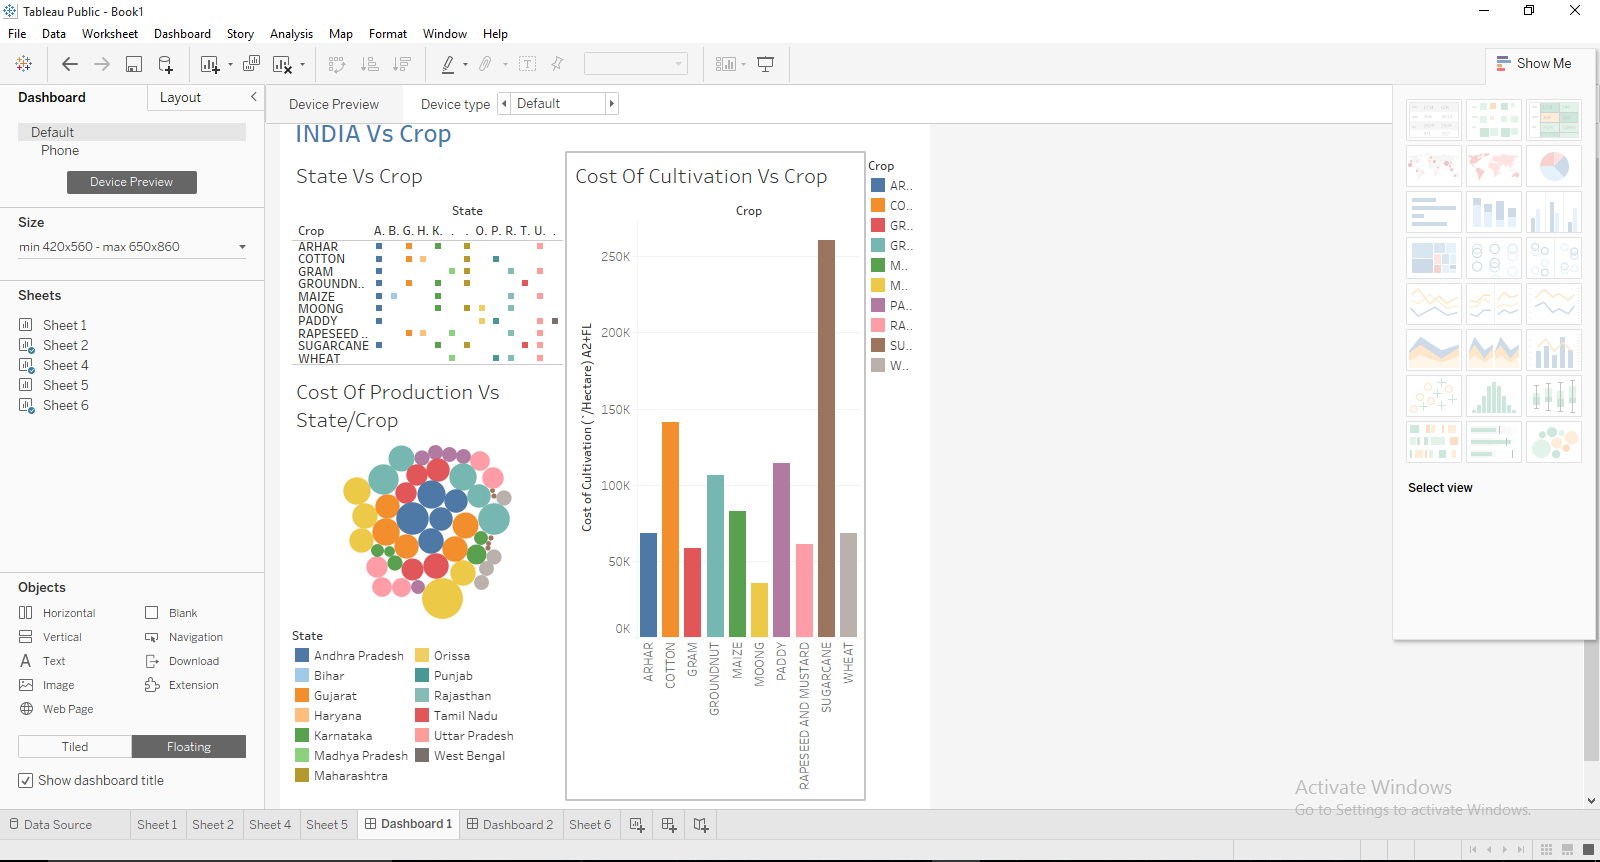

The page's visual inventory and layout, read from the dashboard file:
{"tool":"tableau","page":{"name":"Dashboard 1","canvas":[650,860],"ordinal":0},"visuals":[{"type":"worksheet","box":[0,0,650,860]},{"type":"worksheet","param":"vert","box":[8,8.4,634,843.2]},{"type":"worksheet","box":[8,8.4,634,60.9]},{"type":"worksheet","param":"horz","box":[8,69.3,634,782.3]},{"type":"worksheet","box":[8,69.3,474,782.3]},{"type":"worksheet","title":"Sheet 1","mark":"Automatic","box":[8,69.3,237,391.1]},{"type":"worksheet","title":"Sheet 3","mark":"Circle","rows":["period","gold data ,master.csv_7056D3D10AB9405282495757266570CC"],"cols":["Country Name"],"box":[245,69.3,237,391.1]},{"type":"worksheet","param":"vert","box":[482,69.3,160,782.3]},{"type":"worksheet","title":"Sheet 1","mark":"Automatic","param":"[federated.013u0bw1vhrlku14ba7o214q8bwv].[sum:tonnes:qk]","box":[482,69.3,160,167]},{"type":"worksheet","title":"Sheet 1","mark":"Automatic","param":"[federated.013u0bw1vhrlku14ba7o214q8bwv].[none:Country Name:nk]","box":[482,236.3,160,307.7]},{"type":"worksheet","title":"Sheet 2","mark":"Automatic","rows":["period","tonnes"],"cols":["Country Name"],"box":[8,460.5,237,391.1]},{"type":"worksheet","title":"Sheet 4","mark":"Pie","rows":["gold data ,master.csv_7056D3D10AB9405282495757266570CC","tonnes"],"cols":["period"],"box":[245,460.5,237,391.1]},{"type":"worksheet","title":"Sheet 2","mark":"Automatic","rows":["period","tonnes"],"cols":["Country Name"],"param":"[federated.013u0bw1vhrlku14ba7o214q8bwv].[none:Country Name:nk]","box":[482,543.9,160,307.7]}]}

Visuals, with their boxes on the page's 650x860 design canvas (x1, y1, x2, y2). These are canvas units, not pixel positions in the 1600x862 screenshot, which may show the page scaled, cropped or inside an application window:
worksheet: {"x1": 0, "y1": 0, "x2": 650, "y2": 860}
worksheet: {"x1": 8, "y1": 8, "x2": 642, "y2": 852}
worksheet: {"x1": 8, "y1": 8, "x2": 642, "y2": 69}
worksheet: {"x1": 8, "y1": 69, "x2": 642, "y2": 852}
worksheet: {"x1": 8, "y1": 69, "x2": 482, "y2": 852}
"Sheet 1" worksheet: {"x1": 8, "y1": 69, "x2": 245, "y2": 460}
"Sheet 3" worksheet (Circle marks): {"x1": 245, "y1": 69, "x2": 482, "y2": 460}
worksheet: {"x1": 482, "y1": 69, "x2": 642, "y2": 852}
"Sheet 1" worksheet: {"x1": 482, "y1": 69, "x2": 642, "y2": 236}
"Sheet 1" worksheet: {"x1": 482, "y1": 236, "x2": 642, "y2": 544}
"Sheet 2" worksheet: {"x1": 8, "y1": 460, "x2": 245, "y2": 852}
"Sheet 4" worksheet (Pie marks): {"x1": 245, "y1": 460, "x2": 482, "y2": 852}
"Sheet 2" worksheet: {"x1": 482, "y1": 544, "x2": 642, "y2": 852}
